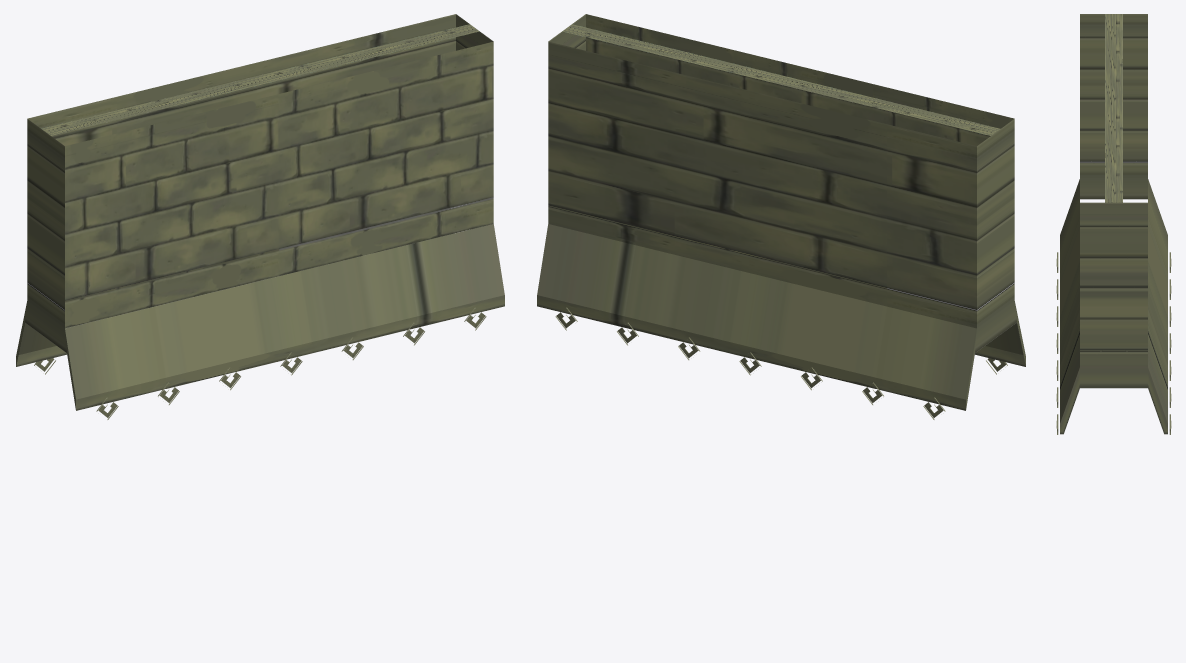
Rendered from brick_test.fbx.
The picture shows the model from 3 angles, left to right: view 1: azimuth 30°, elevation 25°; view 2: azimuth 150°, elevation 25°; view 3: azimuth 270°, elevation 25°; orthographic projection. The views are drawn at different scales.
Parts seen in each view (by area): view 1: M_wall_down; view 2: M_wall_down; view 3: M_wall_down.
Part boxes in pixels (x1,y1,x2,y2): M_wall_down: (16, 14, 504, 419); M_wall_down: (537, 14, 1025, 419); M_wall_down: (1056, 14, 1171, 434).
Bounding box in the file's own units: 14.5 × 3.75 × 15.98.
1 material, 1 textured.
